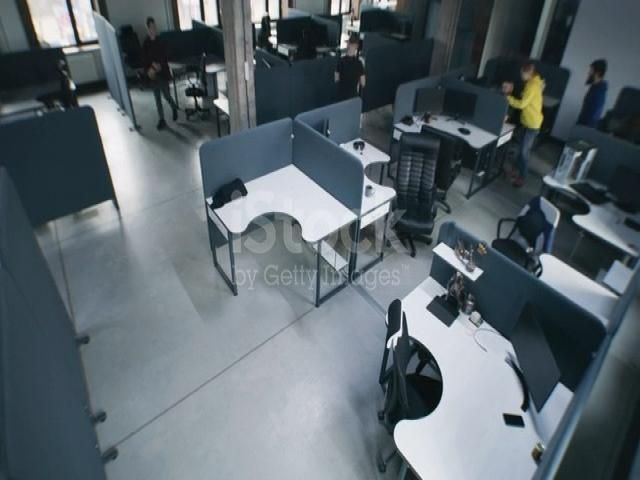empty chair: (358, 292, 413, 430), (409, 110, 466, 218), (42, 38, 91, 137), (488, 193, 551, 268), (392, 144, 430, 236), (114, 15, 144, 106), (187, 50, 213, 143), (336, 78, 376, 107)
occupiedchair: (479, 68, 530, 170), (597, 81, 640, 147)
